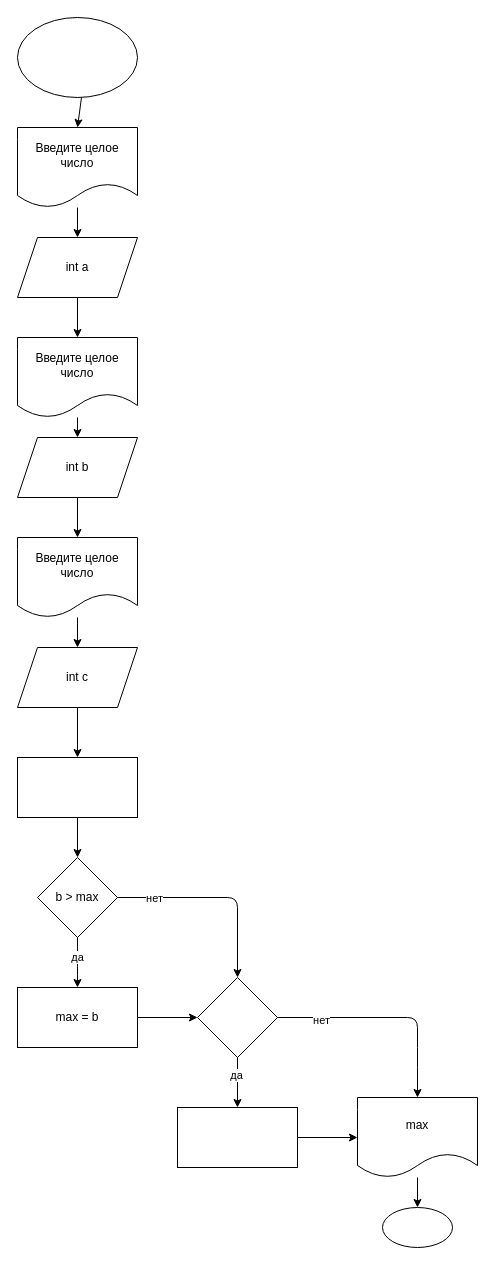
This 495x1265 diagram has some shape labels left out. The box of each missing label's shape, as (x1, y1, x2, y2) in pixels:
End: (382, 1206, 452, 1248)
int max = a: (16, 756, 138, 818)
max = c: (176, 1106, 298, 1168)
Start: (16, 16, 138, 98)
с > max: (196, 976, 278, 1058)
